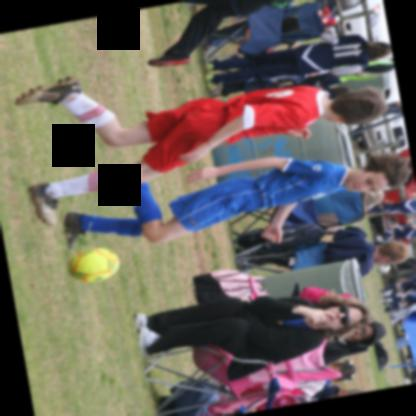backpack: (233, 224, 324, 257), (190, 268, 268, 304)
handbag: (194, 269, 270, 304)
